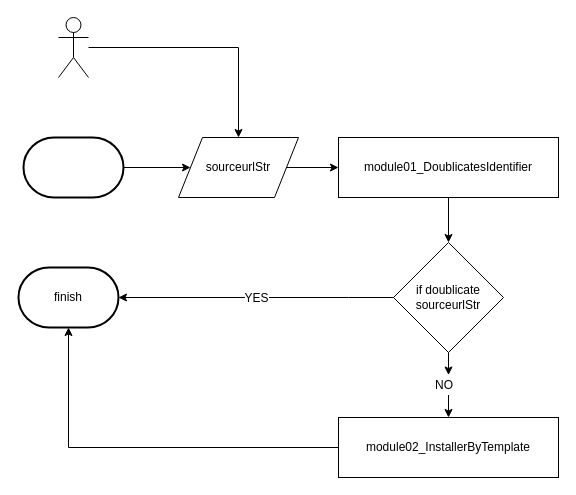
Image size: 576x495. Some labels were removed from this diagram. Each missing label, with the centre of its shape:
"Actor" goes at (73,47).
"start" goes at (73,167).
